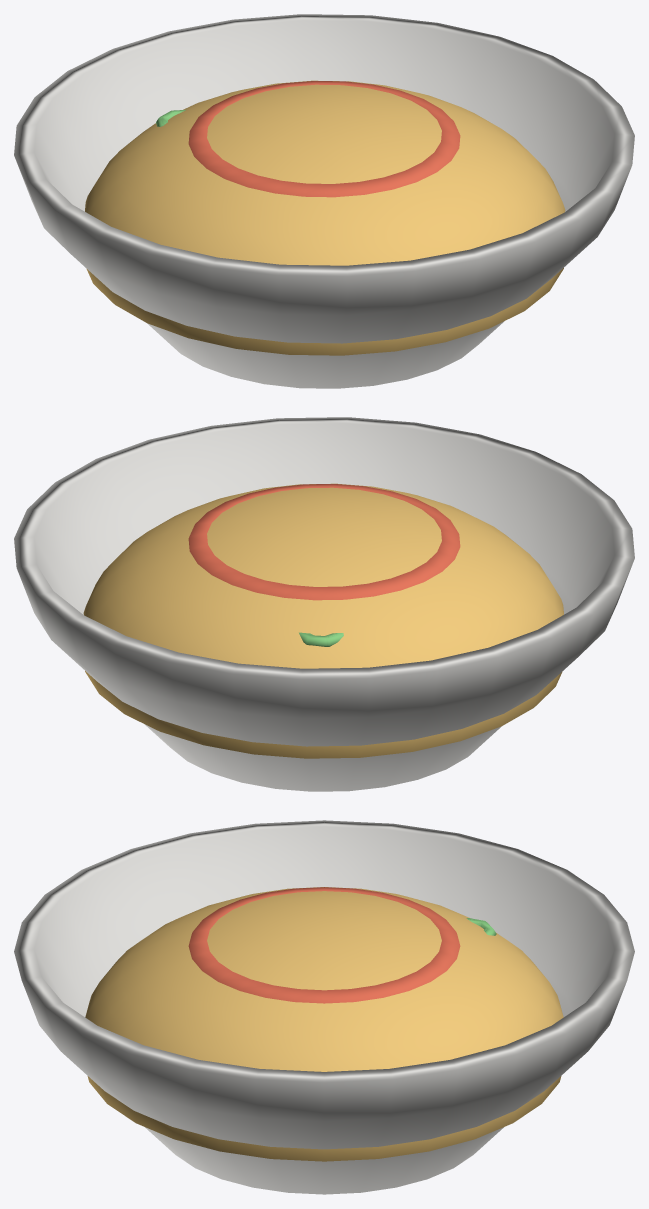
Rendered from gourmet-wok-bowl-balanced.glb.
3 views of the same model, one above another, from view 1: azimuth 30°, elevation 25°; view 2: azimuth 150°, elevation 25°; view 3: azimuth 270°, elevation 25° (orthographic).
Visible parts, largest first — view 1: gourmet-wok-bowl_Mat_Ceramic_Plate_Node, gourmet-wok-bowl_Mat_Fried_Food_Node, gourmet-wok-bowl_Mat_Glossy_Sauce_Node; view 2: gourmet-wok-bowl_Mat_Ceramic_Plate_Node, gourmet-wok-bowl_Mat_Fried_Food_Node, gourmet-wok-bowl_Mat_Glossy_Sauce_Node; view 3: gourmet-wok-bowl_Mat_Ceramic_Plate_Node, gourmet-wok-bowl_Mat_Fried_Food_Node, gourmet-wok-bowl_Mat_Glossy_Sauce_Node.
Part boxes in pixels (x1,y1,x2,y2): gourmet-wok-bowl_Mat_Ceramic_Plate_Node: (14,14,634,388); gourmet-wok-bowl_Mat_Fried_Food_Node: (85,80,565,355); gourmet-wok-bowl_Mat_Glossy_Sauce_Node: (188,81,460,197); gourmet-wok-bowl_Mat_Ceramic_Plate_Node: (14,417,634,791); gourmet-wok-bowl_Mat_Fried_Food_Node: (83,483,563,758); gourmet-wok-bowl_Mat_Glossy_Sauce_Node: (188,484,460,600); gourmet-wok-bowl_Mat_Ceramic_Plate_Node: (14,820,634,1194); gourmet-wok-bowl_Mat_Fried_Food_Node: (85,887,563,1161); gourmet-wok-bowl_Mat_Glossy_Sauce_Node: (188,887,460,1003).
Size of the model in its own units: 0.244 by 0.0859 by 0.244.
